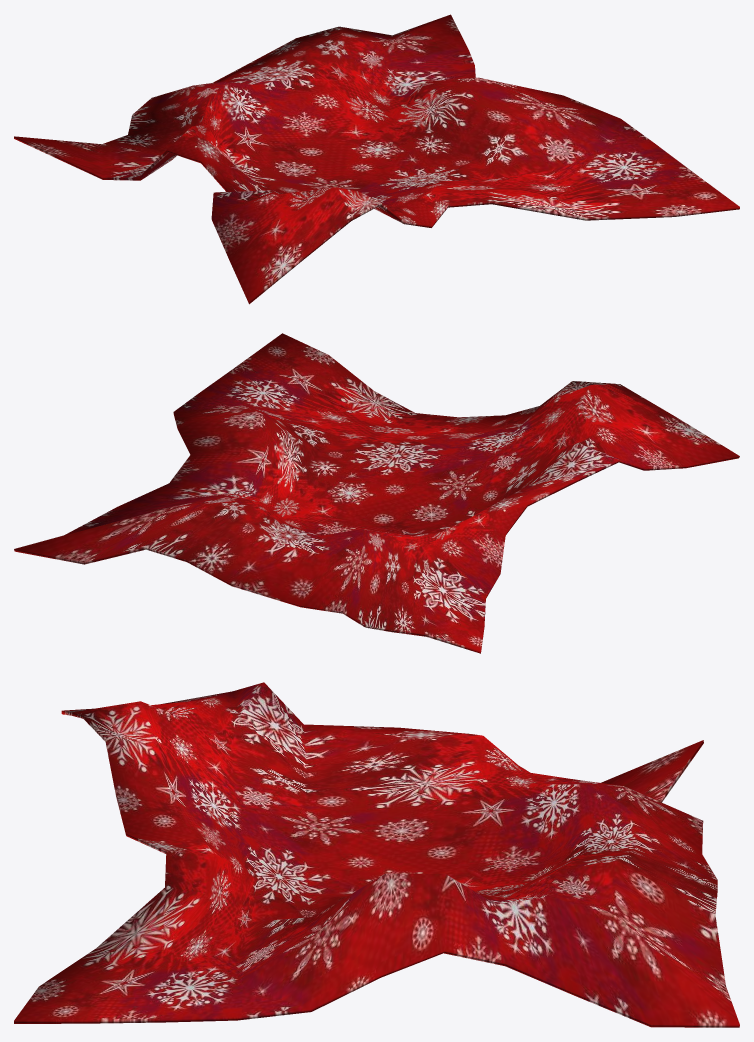
The model's file is Gift_Paper.fbx.
3 views of the same model, one above another, from view 1: azimuth 30°, elevation 25°; view 2: azimuth 150°, elevation 25°; view 3: azimuth 270°, elevation 25° (orthographic). The views are drawn at different scales.
Visible parts, largest first — view 1: Gift_Paper; view 2: Gift_Paper; view 3: Gift_Paper.
Part boxes in pixels (left/top/right/bottom): Gift_Paper: left=14, top=14, right=739, bottom=304; Gift_Paper: left=14, top=333, right=739, bottom=653; Gift_Paper: left=14, top=682, right=739, bottom=1027.
Size of the model in its own units: 193 by 39.55 by 197.
